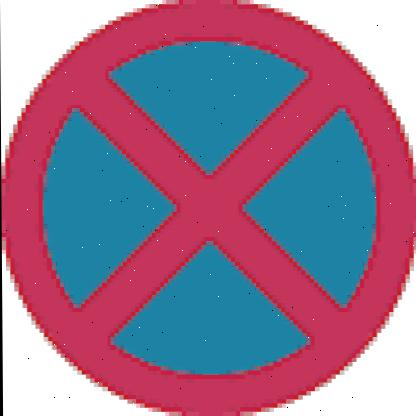No stopping: (2, 2, 416, 413)
